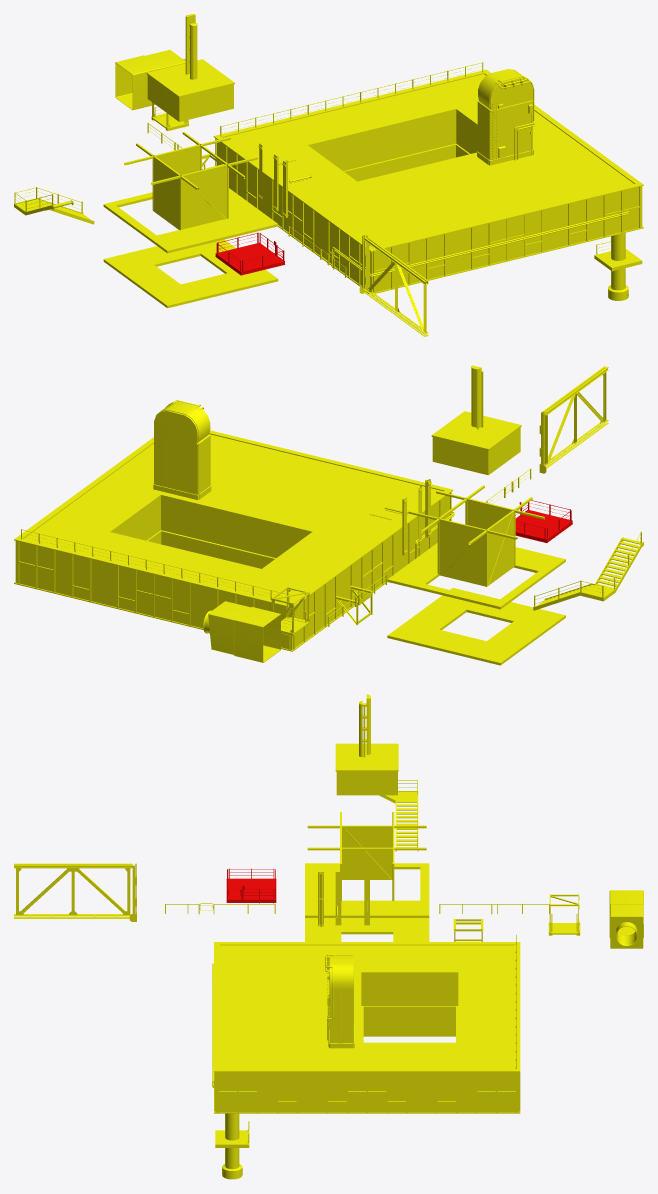
The model's file is shuttle_launch_complex.fbx.
3 renders of one model, top to bottom at view 1: azimuth 30°, elevation 25°; view 2: azimuth 150°, elevation 25°; view 3: azimuth 270°, elevation 25°, orthographic. The views are drawn at different scales.
Visible parts, largest first — view 1: area, elevator_shaft_1, level_ground_floor_1, shuttle_stand_r, radio_tower, level_upper_floors_1, adapter, tower_module_1, elevator, stand_under_the_platform, ladder_1, pipes_area (+2 smaller); view 2: area, level_ground_floor_1, elevator_shaft_1, shuttle_stand_r, radio_tower, adapter, level_upper_floors_1, tower_module_1, ladder_1, elevator, transition_module_1, large_fence (+2 smaller); view 3: area, radio_tower, elevator_shaft_1, level_upper_floors_1, tower_module_1, shuttle_stand_r, level_ground_floor_1, adapter, elevator, stand_under_the_platform, ladder_1, transition_module_1 (+1 smaller).
Boxes of the visible parts, x1=… form: area: x1=213, y1=69, x2=643, y2=294; elevator_shaft_1: x1=124, y1=132, x2=257, y2=230; level_ground_floor_1: x1=103, y1=239, x2=278, y2=308; shuttle_stand_r: x1=477, y1=69, x2=535, y2=165; radio_tower: x1=146, y1=14, x2=234, y2=121; level_upper_floors_1: x1=103, y1=188, x2=278, y2=253; adapter: x1=115, y1=50, x2=185, y2=110; tower_module_1: x1=359, y1=235, x2=428, y2=336; elevator: x1=215, y1=232, x2=284, y2=275; stand_under_the_platform: x1=594, y1=233, x2=642, y2=300; ladder_1: x1=14, y1=187, x2=94, y2=224; pipes_area: x1=331, y1=210, x2=628, y2=276; area: x1=14, y1=430, x2=453, y2=651; level_ground_floor_1: x1=387, y1=588, x2=565, y2=665; elevator_shaft_1: x1=408, y1=485, x2=544, y2=586; shuttle_stand_r: x1=153, y1=400, x2=211, y2=499; radio_tower: x1=431, y1=365, x2=521, y2=475; adapter: x1=203, y1=601, x2=280, y2=662; level_upper_floors_1: x1=387, y1=543, x2=565, y2=609; tower_module_1: x1=539, y1=366, x2=608, y2=473; ladder_1: x1=533, y1=531, x2=643, y2=610; elevator: x1=515, y1=500, x2=572, y2=542; transition_module_1: x1=271, y1=587, x2=309, y2=636; large_fence: x1=21, y1=529, x2=289, y2=602; area: x1=214, y1=942, x2=520, y2=1113; radio_tower: x1=335, y1=694, x2=398, y2=795; elevator_shaft_1: x1=307, y1=812, x2=426, y2=900; level_upper_floors_1: x1=305, y1=863, x2=429, y2=917; tower_module_1: x1=14, y1=863, x2=136, y2=921; shuttle_stand_r: x1=325, y1=954, x2=354, y2=1048; level_ground_floor_1: x1=305, y1=918, x2=429, y2=941; adapter: x1=609, y1=890, x2=643, y2=948; elevator: x1=226, y1=868, x2=276, y2=903; stand_under_the_platform: x1=215, y1=1113, x2=249, y2=1179; ladder_1: x1=379, y1=780, x2=418, y2=851; transition_module_1: x1=548, y1=894, x2=580, y2=935.
Bounding box in the file's own units: 6014 × 3476 × 6430.
